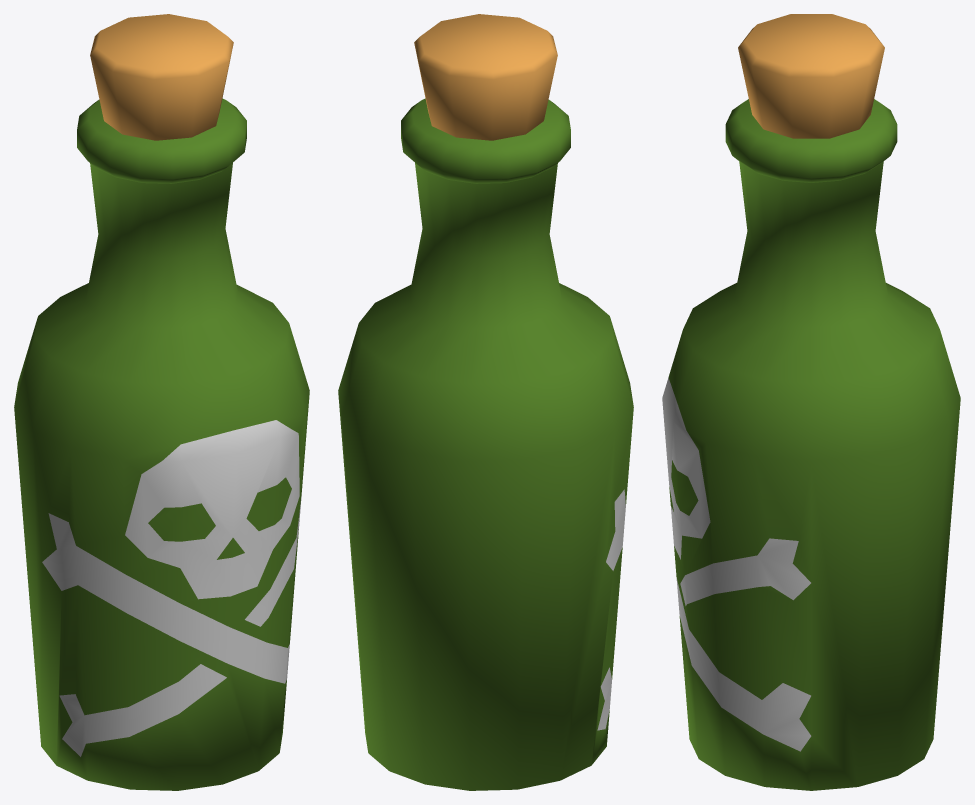
The model's file is Poison.fbx.
3 views of the same model, side by side, from view 1: azimuth 30°, elevation 25°; view 2: azimuth 150°, elevation 25°; view 3: azimuth 270°, elevation 25° (orthographic).
Parts seen in each view (by area): view 1: Bottle, Cork; view 2: Bottle, Cork; view 3: Bottle, Cork.
Boxes of the visible parts, x1=… form: Bottle: x1=14, y1=98, x2=309, y2=790; Cork: x1=90, y1=14, x2=233, y2=140; Bottle: x1=338, y1=98, x2=633, y2=790; Cork: x1=414, y1=14, x2=557, y2=140; Bottle: x1=662, y1=99, x2=960, y2=790; Cork: x1=738, y1=14, x2=884, y2=138.
Size of the model in its own units: 45.43 by 117 by 45.43.
